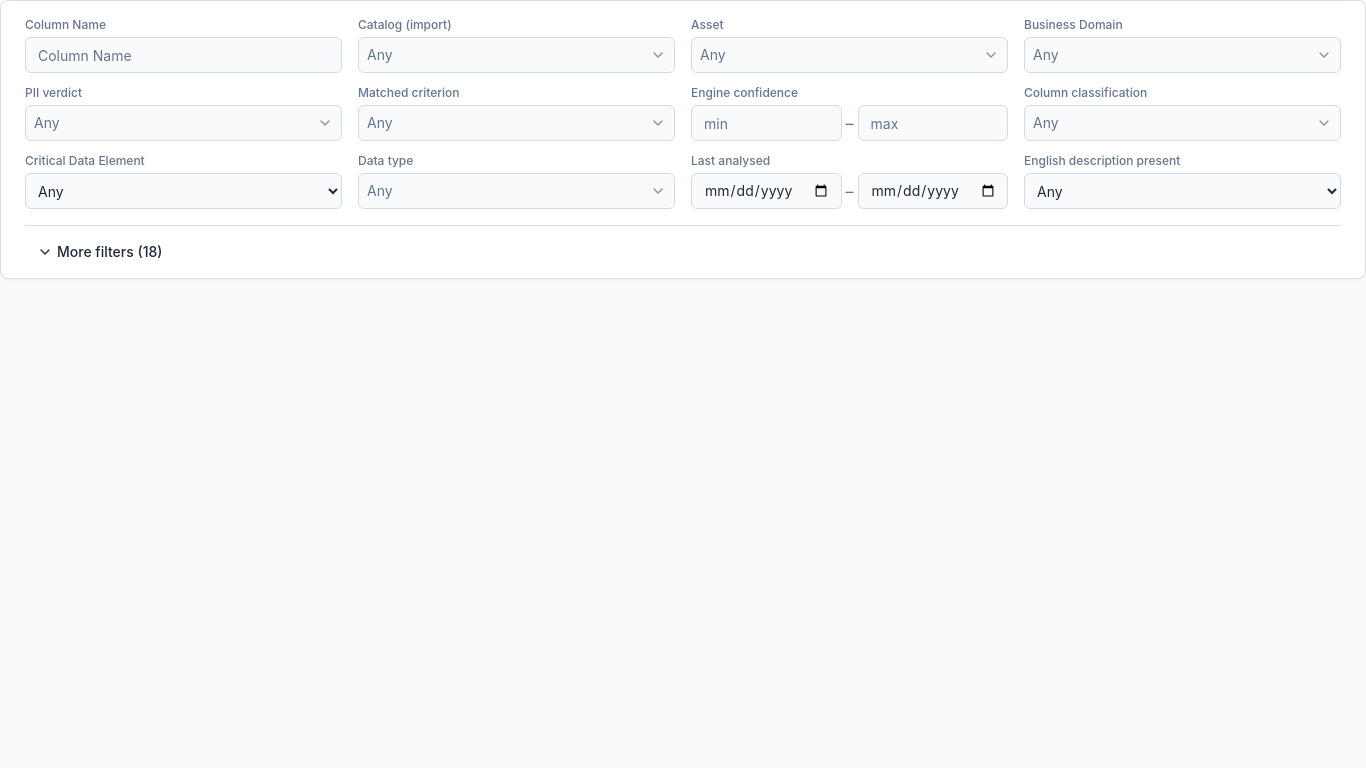
it: <FilterPanel /> — attribute filters › reveals the advanced filters on demand
The image size is (1366, 768).
Click the button "More filters (18)" at (100, 252), box x1=25 y1=234 x2=174 y2=270
(page scrolled)
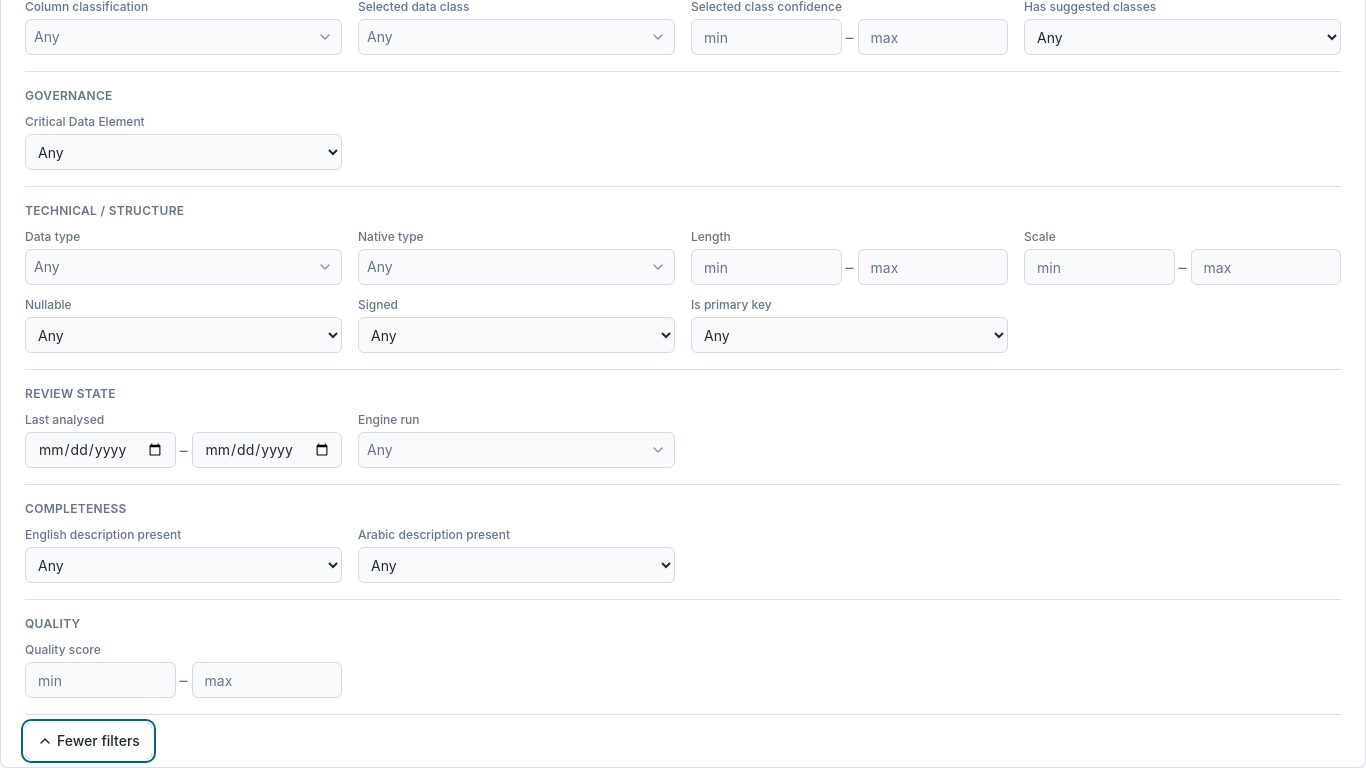
Now the text "Scale" is shown, box x1=1024 y1=229 x2=1056 y2=244
Now the text "Quality score" is shown, box x1=25 y1=642 x2=101 y2=657
Now the button "Fewer filters" is shown, box x1=25 y1=723 x2=152 y2=759
